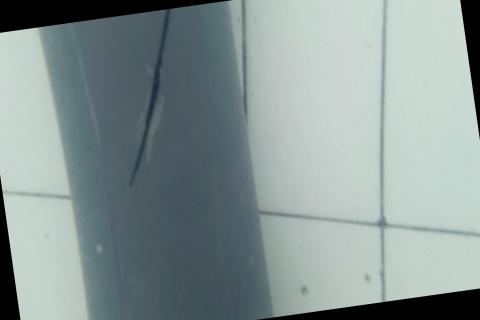keretakan: (103, 7, 200, 190)
